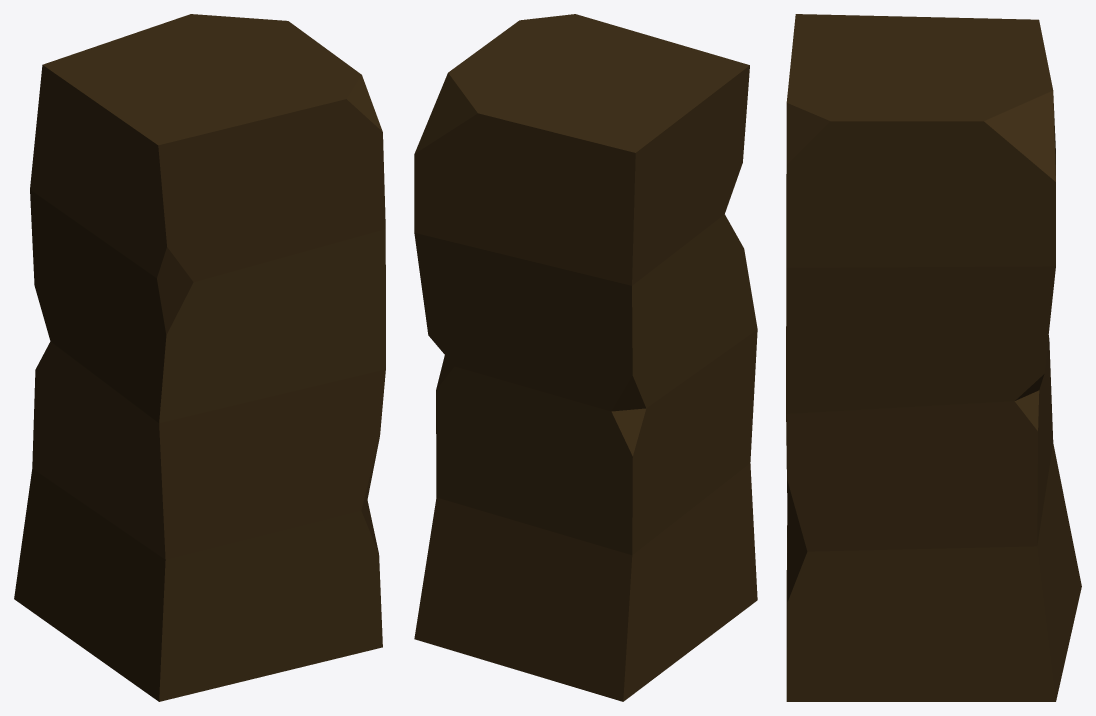
The model's file is Pillar1.fbx.
3 views of the same model, side by side, from view 1: azimuth 30°, elevation 25°; view 2: azimuth 150°, elevation 25°; view 3: azimuth 270°, elevation 25° (orthographic). The views are drawn at different scales.
Parts seen in each view (by area): view 1: 立方体.004; view 2: 立方体.004; view 3: 立方体.004.
Boxes of the visible parts, <box> form: 立方体.004: <box>14,14,385,701</box>; 立方体.004: <box>414,14,757,701</box>; 立方体.004: <box>786,14,1081,701</box>.
Size of the model in its own units: 2.05 by 4.76 by 2.2.
